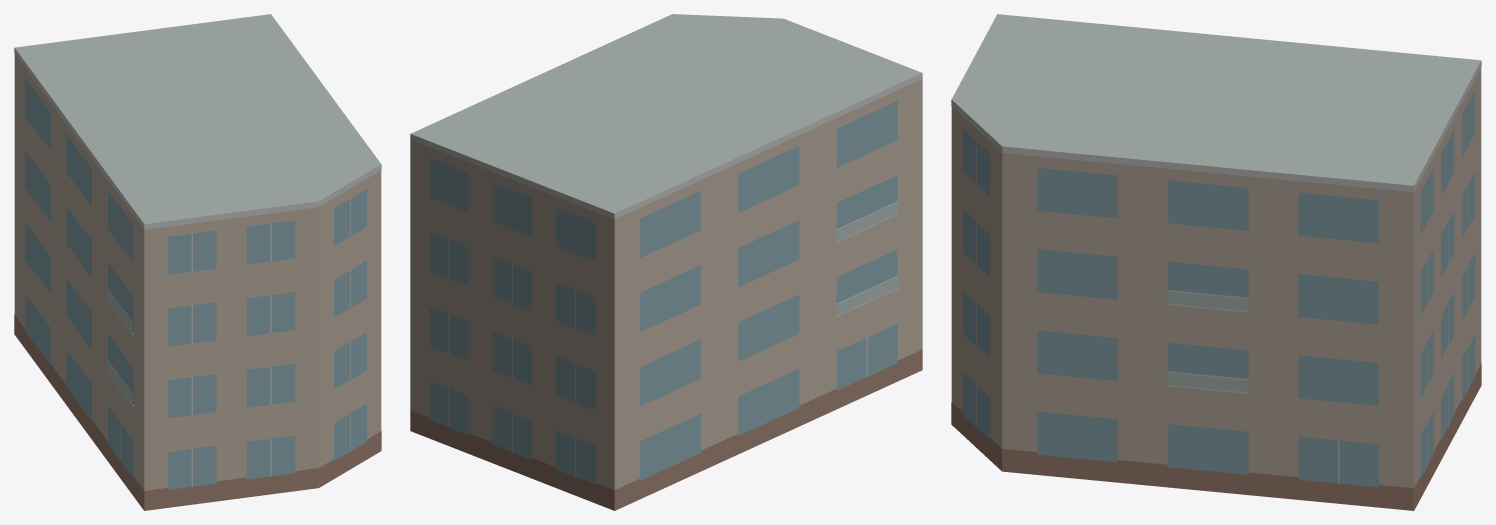
The model's file is residential-54616713-2ad3-40d5-8fad-457c40b2aeac.glb.
3 views of the same model, side by side, from view 1: azimuth 30°, elevation 25°; view 2: azimuth 150°, elevation 25°; view 3: azimuth 270°, elevation 25° (orthographic). The views are drawn at different scales.
Parts seen in each view (by area): view 1: residential-54616713-2ad3-40d5-8fad-457c40b2aeac.tmp; view 2: residential-54616713-2ad3-40d5-8fad-457c40b2aeac.tmp; view 3: residential-54616713-2ad3-40d5-8fad-457c40b2aeac.tmp.
Boxes of the visible parts, x1,y1,x2,y2 form: residential-54616713-2ad3-40d5-8fad-457c40b2aeac.tmp: (14, 14, 381, 510); residential-54616713-2ad3-40d5-8fad-457c40b2aeac.tmp: (410, 14, 922, 510); residential-54616713-2ad3-40d5-8fad-457c40b2aeac.tmp: (951, 14, 1481, 510).
Size of the model in its own units: 13.83 by 12.2 by 18.03.
